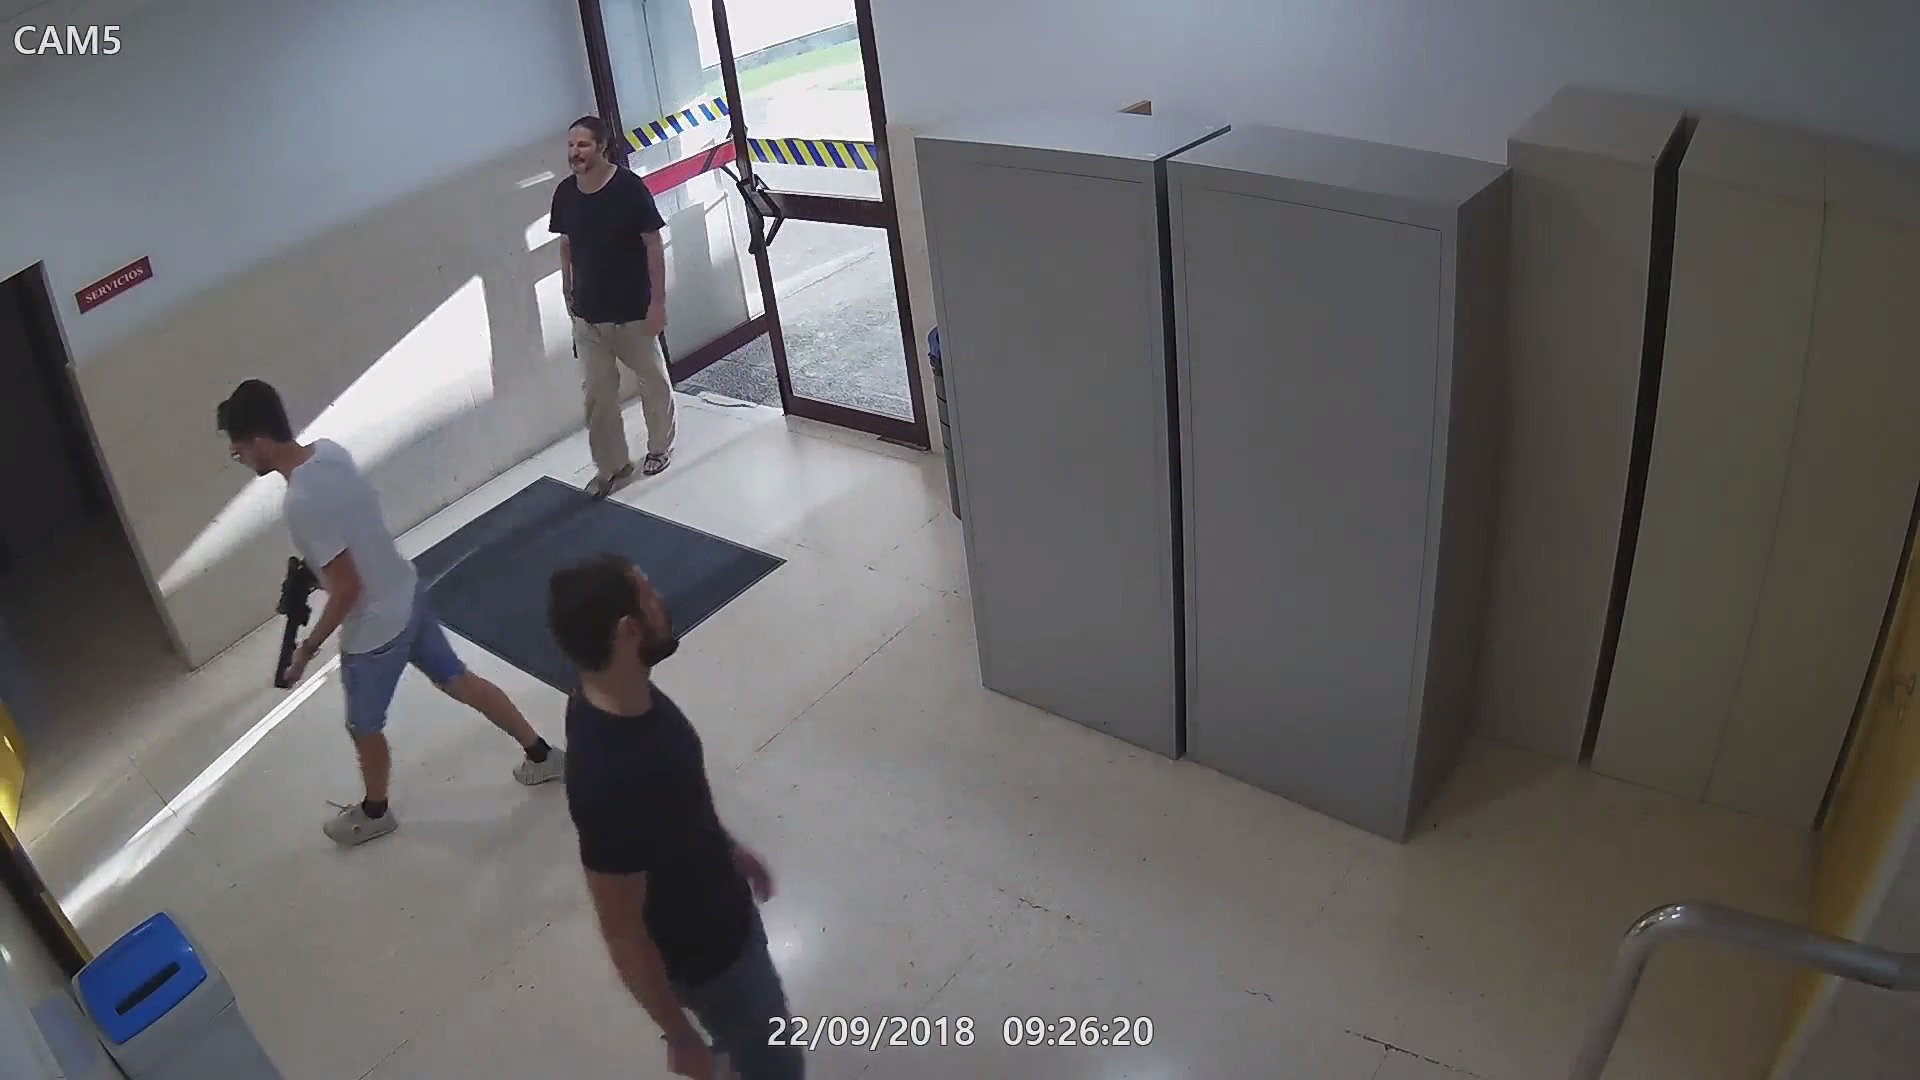Handgun: (659, 1029, 761, 1080)
Short_rifle: (272, 549, 322, 696)
